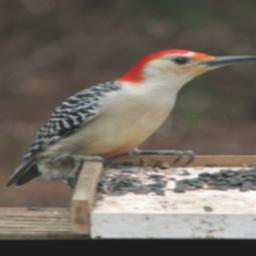Woodpecker: (2, 49, 256, 190)
